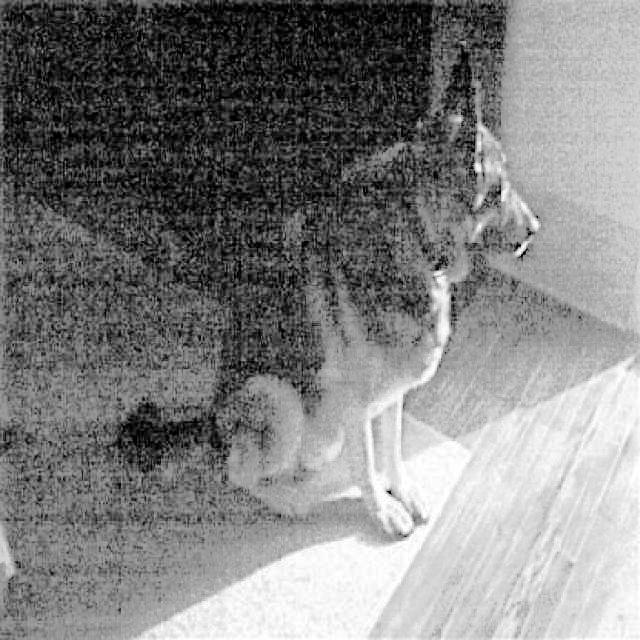Dog: (117, 30, 543, 547)
